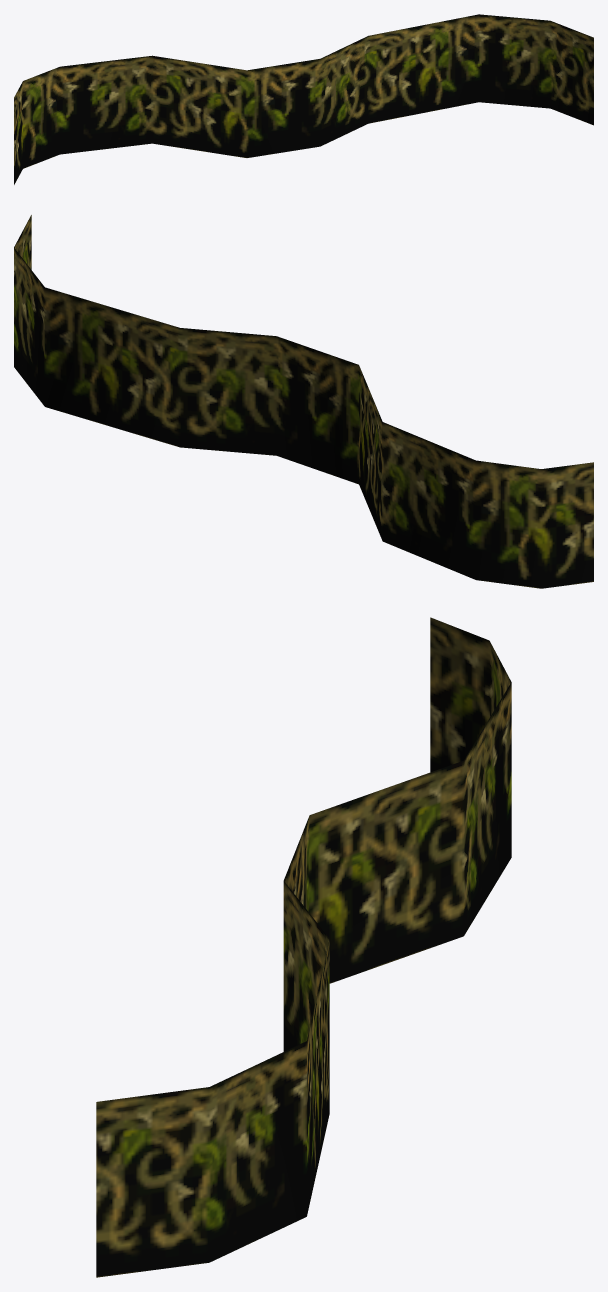
The model's file is OVERHILL_A_01_LINE122.fbx.
The picture shows the model from 3 angles, top to bottom: view 1: azimuth 30°, elevation 25°; view 2: azimuth 150°, elevation 25°; view 3: azimuth 270°, elevation 25°; orthographic projection. The views are drawn at different scales.
Visible parts, largest first — view 1: OVERHILL_A_01_LINE122; view 2: OVERHILL_A_01_LINE122; view 3: OVERHILL_A_01_LINE122.
Part boxes in pixels (x1,y1,x2,y2): OVERHILL_A_01_LINE122: (14, 14, 593, 184); OVERHILL_A_01_LINE122: (14, 215, 593, 588); OVERHILL_A_01_LINE122: (96, 617, 511, 1277).
Bounding box in the file's own units: 42193 × 7135 × 15272.
Materials: 1 (1 with a texture image).
